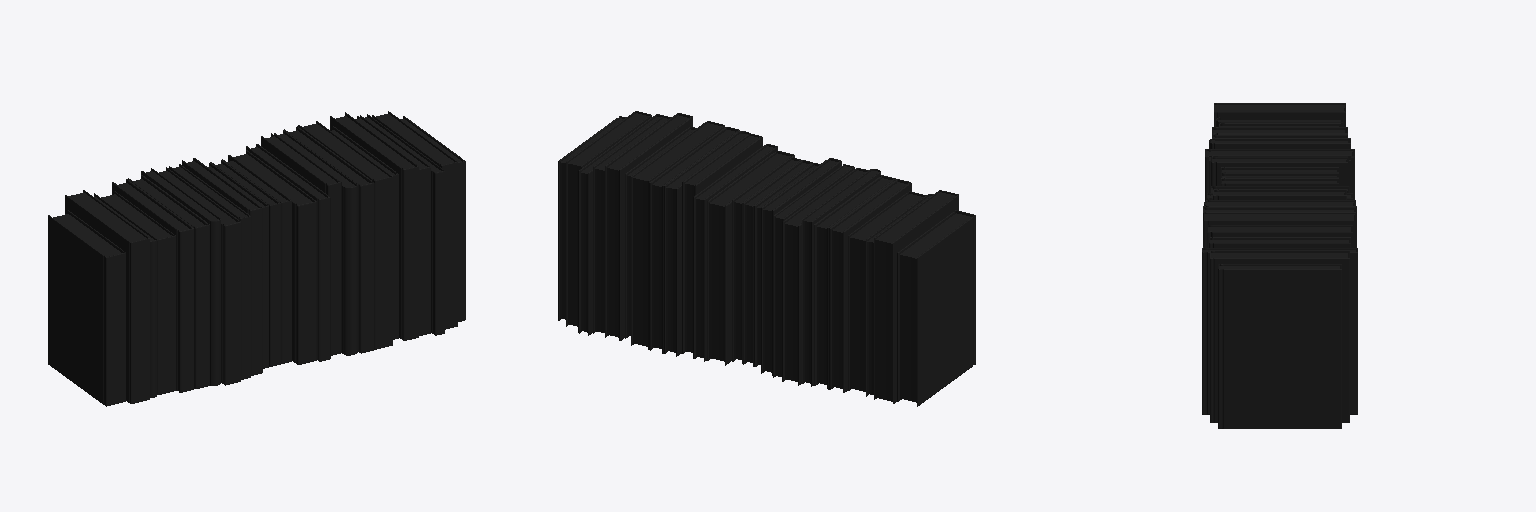
File: books.obj
3 views of the same model, side by side, from view 1: azimuth 30°, elevation 25°; view 2: azimuth 150°, elevation 25°; view 3: azimuth 270°, elevation 25° (orthographic).
Visible parts, largest first — view 1: BOOKS_ROODOU_WHITE_BEIGE_books, BOOKS_ROODOU_WHITE_BEIGE_paper; view 2: BOOKS_ROODOU_WHITE_BEIGE_paper, BOOKS_ROODOU_WHITE_BEIGE_books; view 3: BOOKS_ROODOU_WHITE_BEIGE_books, BOOKS_ROODOU_WHITE_BEIGE_paper.
Part boxes in pixels (bbox=[...]): BOOKS_ROODOU_WHITE_BEIGE_books: bbox=[48, 111, 465, 406]; BOOKS_ROODOU_WHITE_BEIGE_paper: bbox=[53, 114, 461, 256]; BOOKS_ROODOU_WHITE_BEIGE_paper: bbox=[560, 113, 971, 402]; BOOKS_ROODOU_WHITE_BEIGE_books: bbox=[558, 111, 975, 406]; BOOKS_ROODOU_WHITE_BEIGE_books: bbox=[1202, 103, 1357, 428]; BOOKS_ROODOU_WHITE_BEIGE_paper: bbox=[1203, 105, 1355, 268].
Bounding box in the file's own units: 603 × 276 × 228.